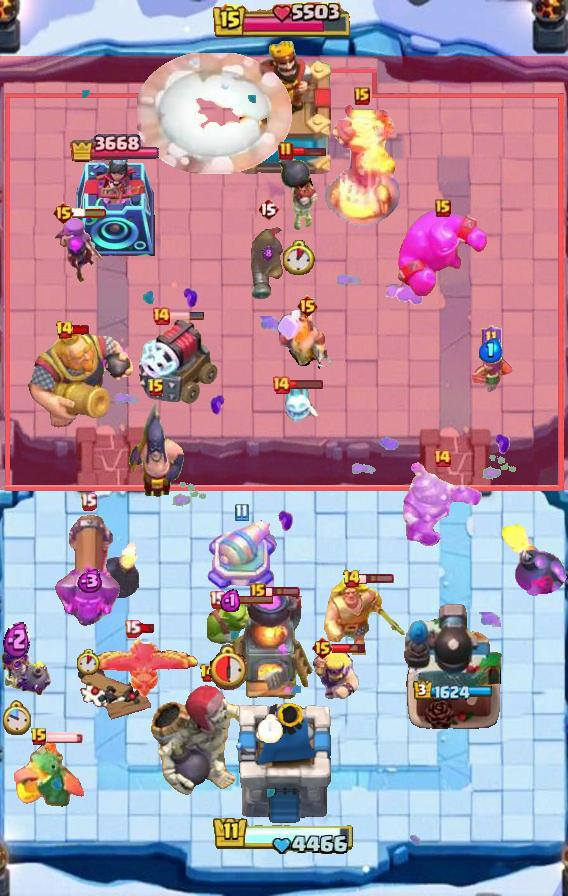arrows: (311, 644, 360, 700)
baby-dragon: (496, 522, 568, 596), (94, 539, 140, 598)
bat: (275, 382, 319, 428)
bomb-tower: (249, 223, 287, 301)
cannon: (466, 349, 516, 395)
clock: (212, 815, 356, 857), (213, 2, 355, 40)
clone: (397, 209, 489, 299)
electro-dragon: (323, 102, 401, 230)
electro-giant: (147, 685, 269, 797)
electro-spirit: (3, 621, 29, 660), (74, 569, 103, 593), (479, 337, 503, 363), (220, 588, 240, 612), (262, 246, 274, 261)
electro-wizard: (14, 738, 90, 812)
elixir: (209, 643, 252, 690), (283, 240, 315, 275), (1, 699, 31, 736), (257, 714, 282, 742), (77, 649, 100, 675)
emote: (223, 595, 275, 606), (46, 731, 84, 743), (358, 573, 395, 585), (264, 586, 301, 598), (72, 207, 108, 219), (332, 642, 367, 654), (288, 378, 324, 389), (293, 147, 328, 158), (169, 311, 205, 321), (72, 324, 91, 336), (139, 623, 156, 634)
flying-machine: (199, 596, 261, 652)
furnace: (54, 511, 122, 631)
giant-skeleton: (25, 328, 138, 432)
goblin-ball: (0, 645, 52, 699)
goblin-hut: (322, 575, 408, 655)
golden-knight: (89, 634, 199, 700)
golem: (134, 317, 220, 407)
hunter: (226, 592, 314, 702)
ice-golem: (275, 150, 323, 232)
king-tower: (228, 41, 340, 181), (235, 703, 333, 826)
mighty-miner: (276, 310, 338, 376)
monk: (127, 398, 185, 498)
queen-tower: (73, 158, 155, 256)
rascal-girl: (53, 216, 105, 286)
royal-guardian: (402, 457, 482, 549)
royal-recruit: (203, 516, 280, 598)
selected: (69, 131, 158, 166), (413, 679, 493, 700)
text: (52, 201, 75, 225), (296, 294, 319, 318), (310, 636, 333, 660), (481, 325, 502, 351), (257, 197, 279, 221), (151, 306, 171, 326), (54, 320, 74, 340), (271, 375, 291, 395), (432, 448, 452, 468), (342, 569, 361, 589), (198, 663, 217, 683), (147, 378, 165, 398), (30, 727, 48, 747), (209, 591, 227, 609), (278, 141, 294, 161), (80, 493, 97, 511), (123, 619, 140, 637), (354, 87, 370, 105), (435, 199, 451, 217), (250, 583, 266, 601), (234, 503, 249, 522)
tower-bar: (403, 601, 503, 731)
wall-breaker: (137, 53, 292, 175)
